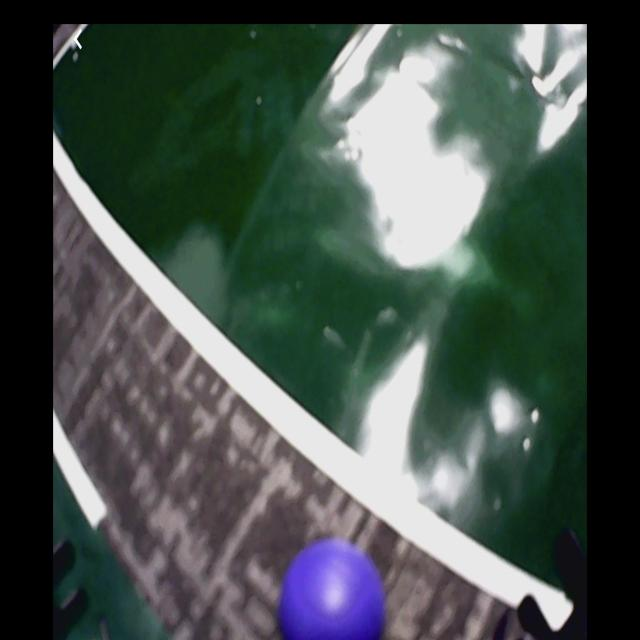ball: (283, 540, 386, 640)
